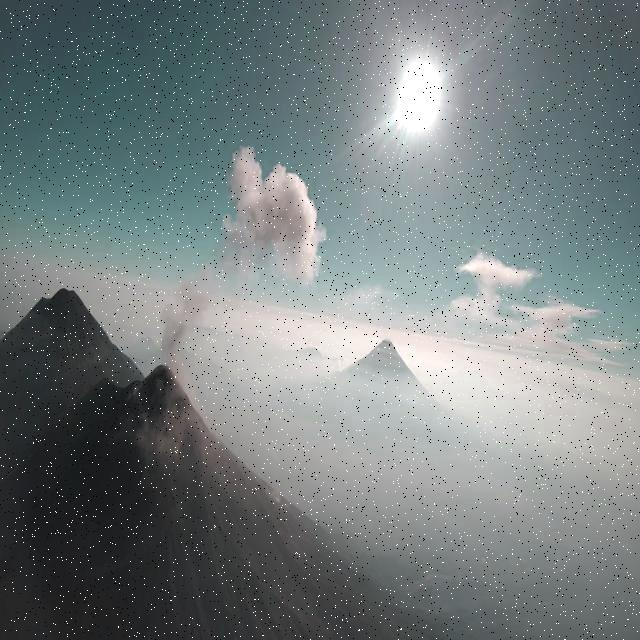Plume: (222, 138, 328, 294), (154, 263, 217, 350)
Summit: (91, 357, 208, 423)
